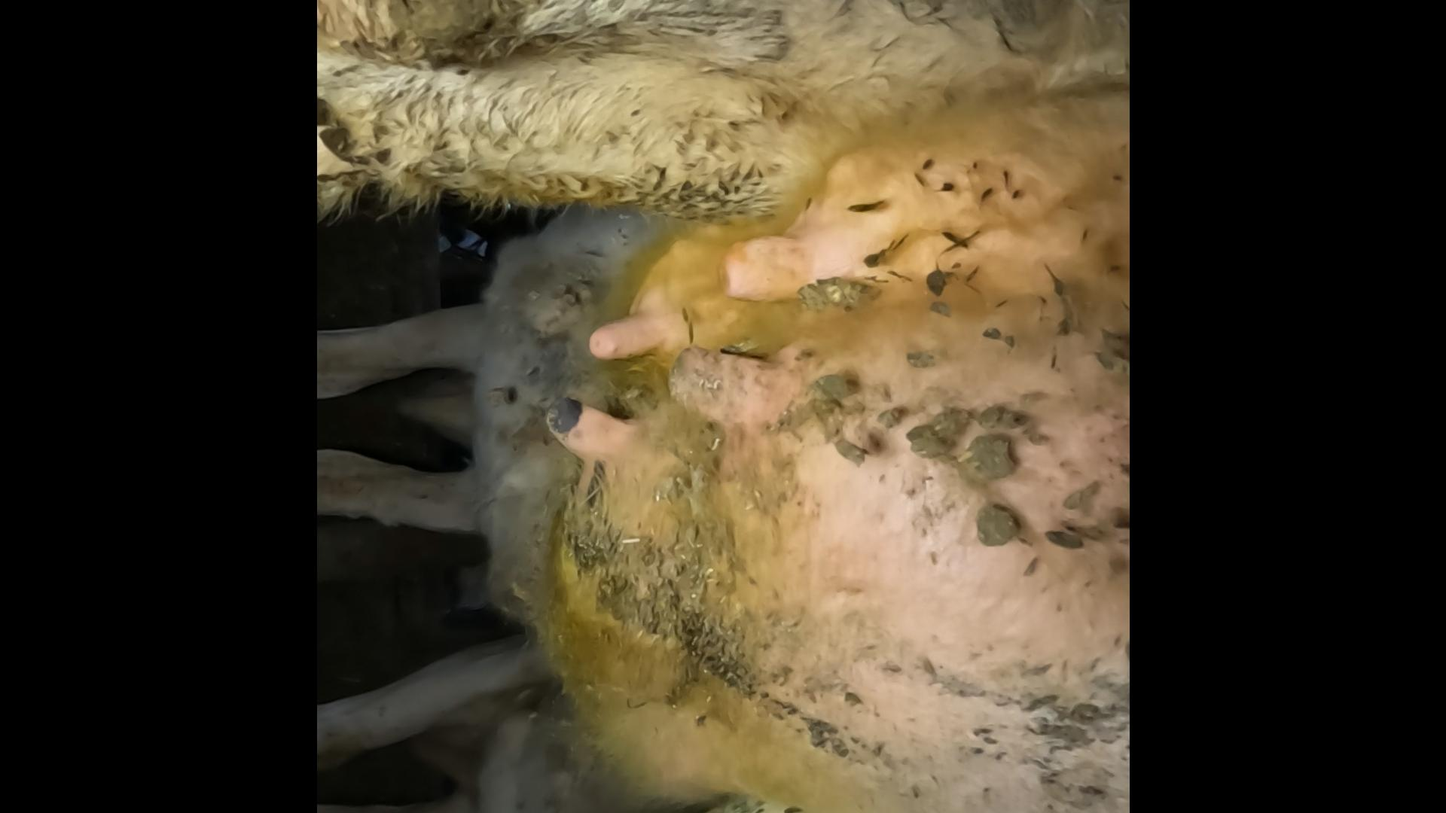Zitze: (668, 345, 807, 430), (542, 378, 625, 492), (707, 234, 826, 307), (592, 288, 668, 373)
